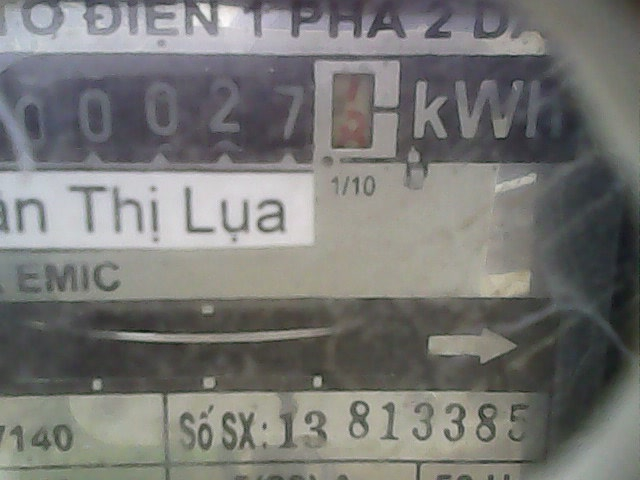phy_plate: (3, 50, 411, 170)
